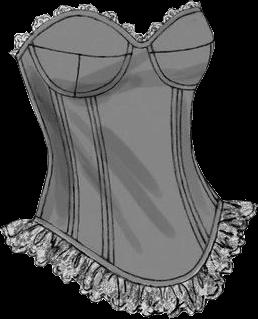Bodice: (0, 1, 257, 318)
Neckline: (30, 198, 224, 286), (7, 0, 199, 53), (14, 7, 204, 60), (26, 45, 134, 98), (146, 46, 197, 91)
Waistline: (0, 204, 257, 318)
